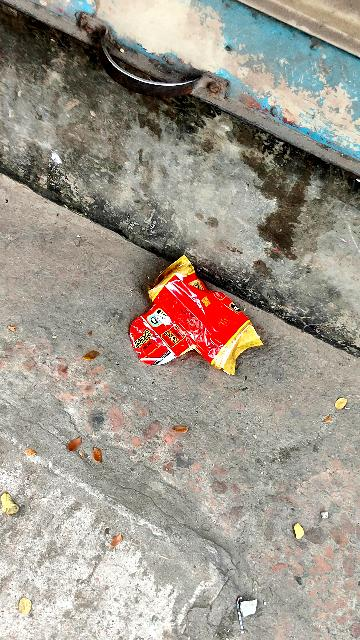packet: (116, 247, 293, 408)
